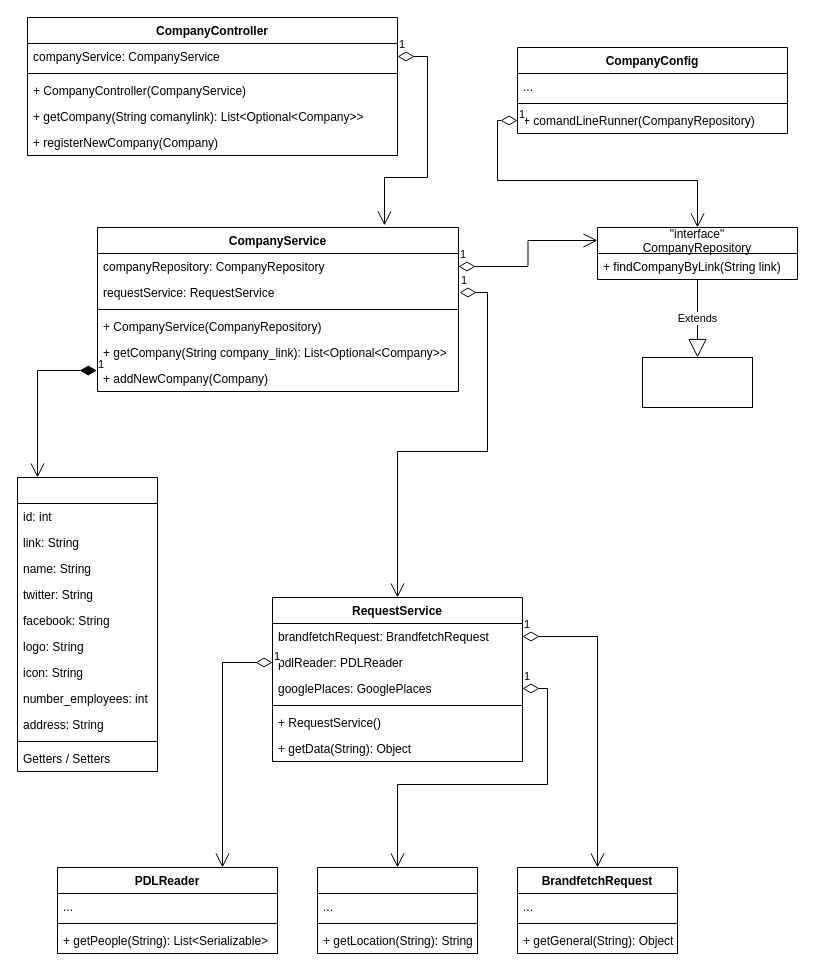
This 815x974 diagram has some shape labels left out. Here are the shapes that lost their labels. From the top down, the box of each, then its label:
(642, 356, 752, 408): JpaRepository
(16, 476, 158, 772): Company
(316, 866, 478, 954): GooglePlaces
